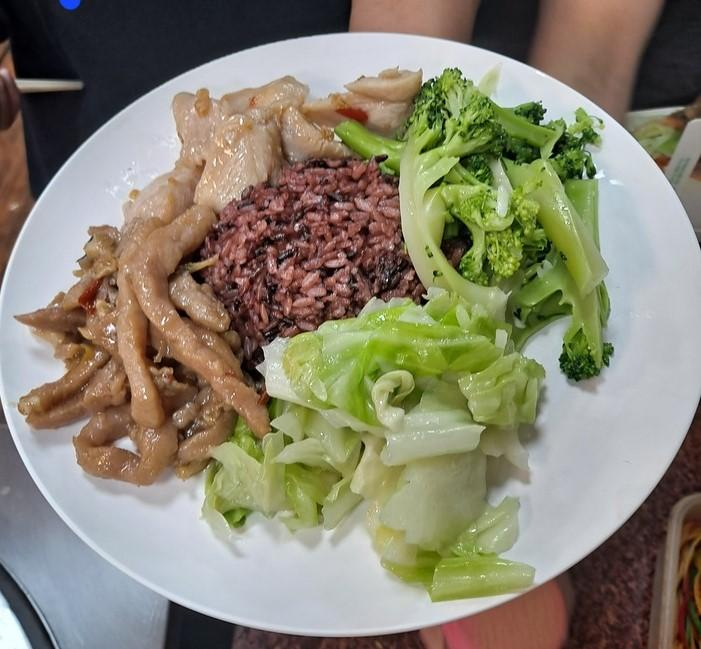big fried chicken leg: (3, 25, 701, 639)
braised fish: (208, 166, 412, 344)
braised fish fillet: (200, 304, 547, 604), (336, 69, 616, 383)
braised pork: (22, 210, 266, 488), (128, 62, 422, 225)
